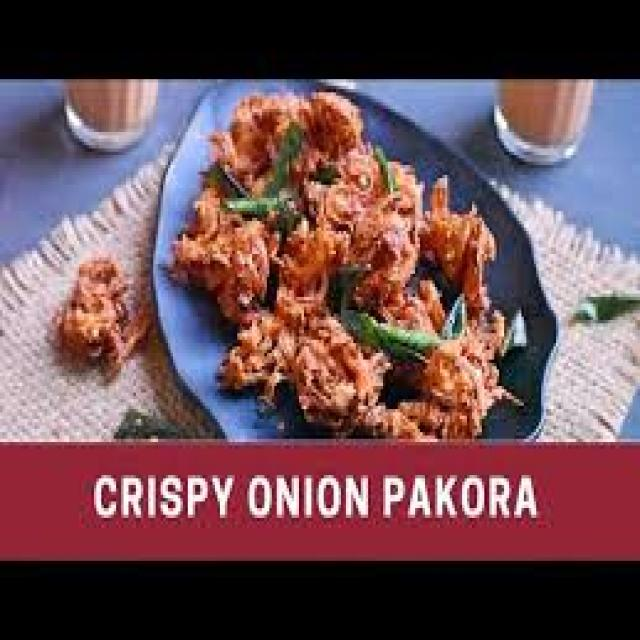BAJI: (220, 92, 358, 211), (324, 166, 428, 305), (180, 182, 278, 314), (288, 209, 362, 361), (376, 348, 496, 433), (425, 173, 491, 304), (289, 319, 374, 419), (226, 305, 296, 395)
